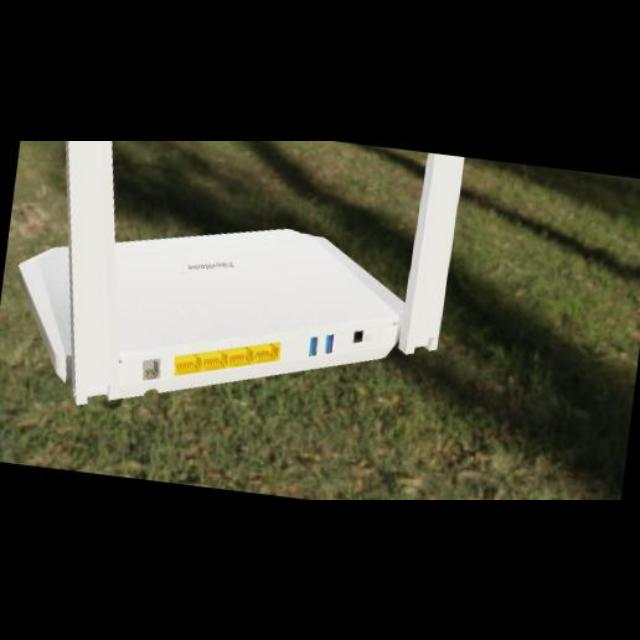Router: (15, 140, 469, 410)
